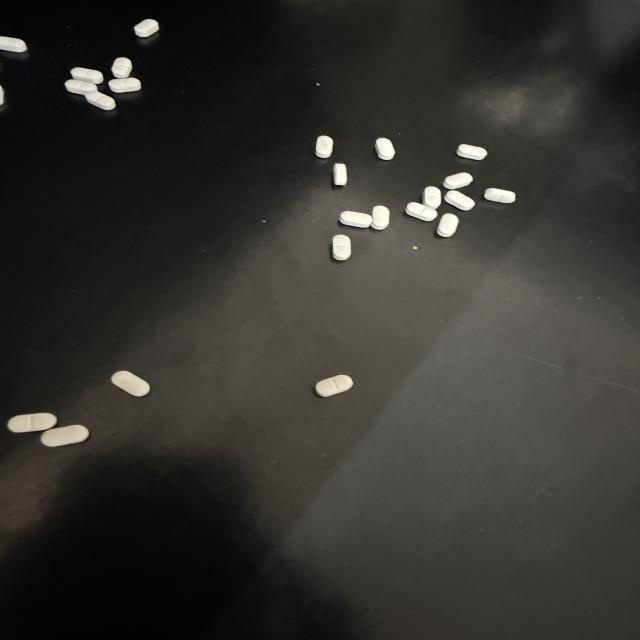pill: (41, 425, 89, 446), (111, 371, 150, 396), (8, 413, 56, 432), (316, 375, 353, 396), (406, 202, 437, 221), (445, 191, 475, 210), (86, 92, 115, 110), (71, 68, 103, 84), (340, 211, 372, 227), (437, 213, 458, 237), (443, 173, 473, 189), (109, 78, 141, 93), (457, 144, 487, 160), (371, 205, 390, 229), (134, 19, 159, 37), (485, 188, 515, 203), (333, 235, 351, 260), (65, 80, 97, 94), (376, 138, 395, 160), (0, 37, 27, 52), (112, 58, 132, 78), (423, 187, 441, 209), (316, 136, 333, 158), (333, 163, 347, 186), (0, 86, 4, 105)
